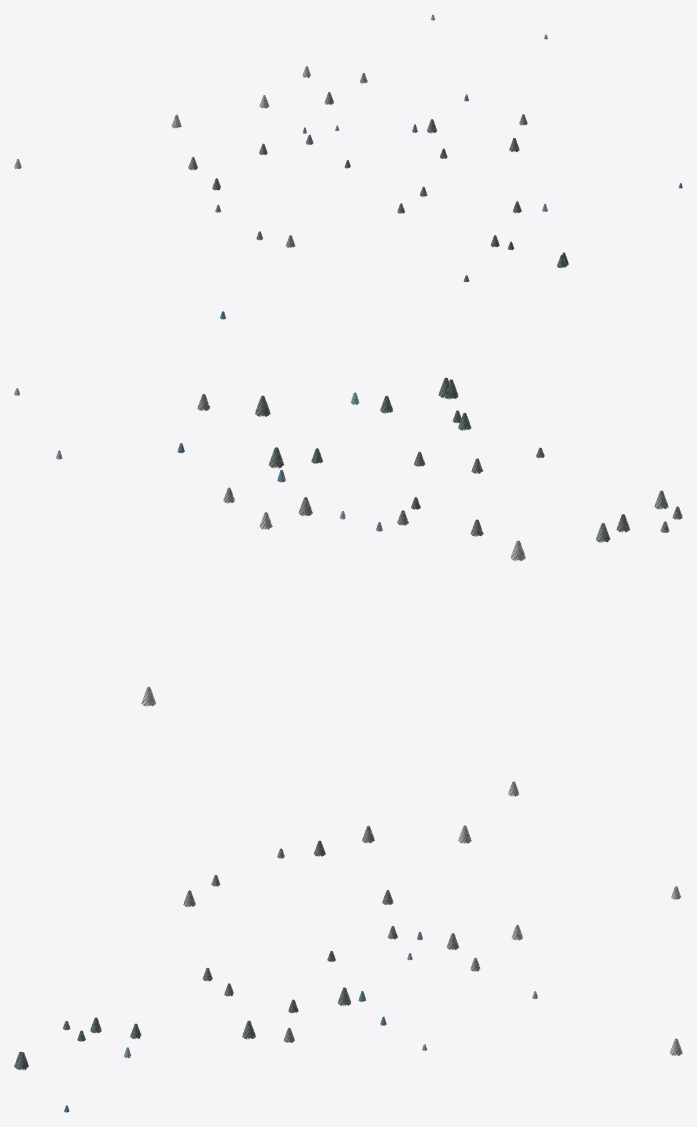
Rendered from frost_canopy_frozen_wreck.glb.
The picture shows the model from 3 angles, top to bottom: view 1: azimuth 30°, elevation 25°; view 2: azimuth 150°, elevation 25°; view 3: azimuth 270°, elevation 25°; orthographic projection. The views are drawn at different scales.
Parts seen in each view (by area): view 1: frost_canopy_frozen_wreck; view 2: frost_canopy_frozen_wreck; view 3: frost_canopy_frozen_wreck.
Part boxes in pixels (x1,y1,x2,y2): frost_canopy_frozen_wreck: [14, 14, 682, 282]; frost_canopy_frozen_wreck: [14, 311, 682, 796]; frost_canopy_frozen_wreck: [14, 825, 682, 1112].
Size of the model in its own units: 168 by 38.72 by 171.
